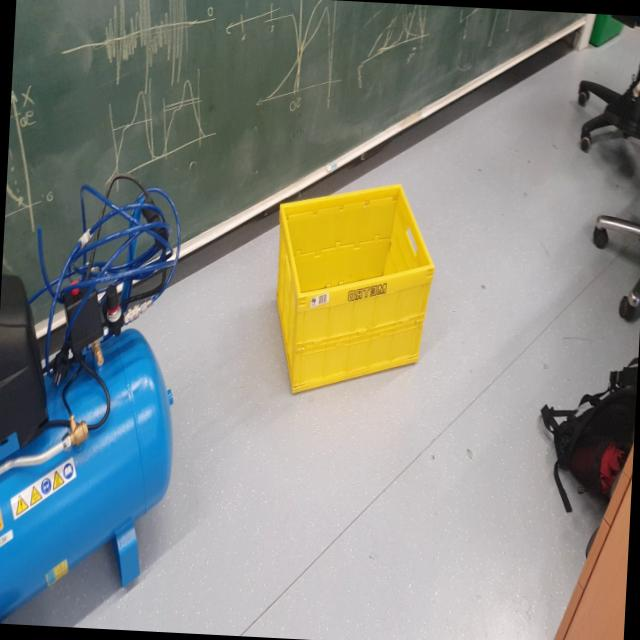box: (258, 166, 451, 426)
